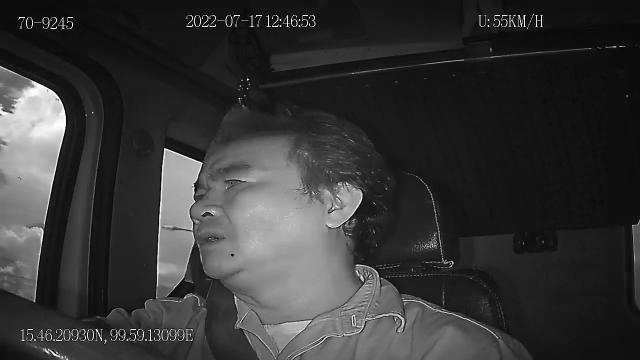Seatbelt: (204, 276, 262, 360)
